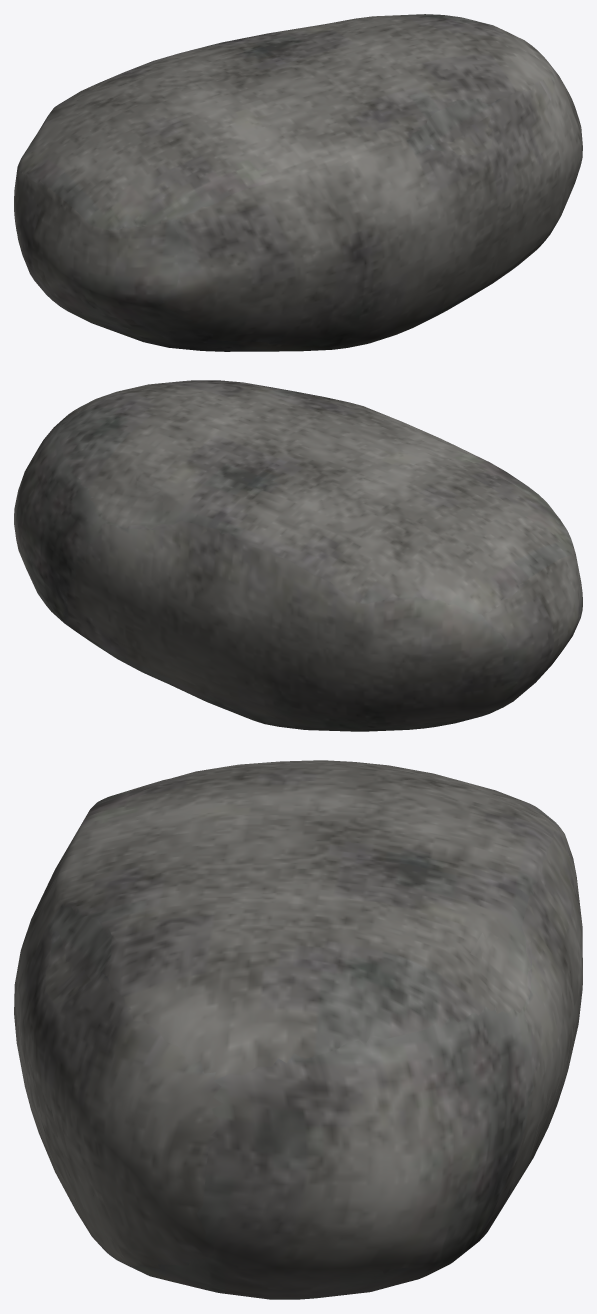
The model's file is sturdy-granite-boulder-v001.glb.
3 views of the same model, one above another, from view 1: azimuth 30°, elevation 25°; view 2: azimuth 150°, elevation 25°; view 3: azimuth 270°, elevation 25° (orthographic). The views are drawn at different scales.
Visible parts, largest first — view 1: sturdy-granite-boulder; view 2: sturdy-granite-boulder; view 3: sturdy-granite-boulder.
Boxes of the visible parts, bbox=[...] form: sturdy-granite-boulder: bbox=[14, 14, 582, 351]; sturdy-granite-boulder: bbox=[14, 380, 582, 731]; sturdy-granite-boulder: bbox=[14, 760, 582, 1299].
Bounding box in the file's own units: 1.77 × 0.7991 × 1.1.
1 material, 1 textured.
